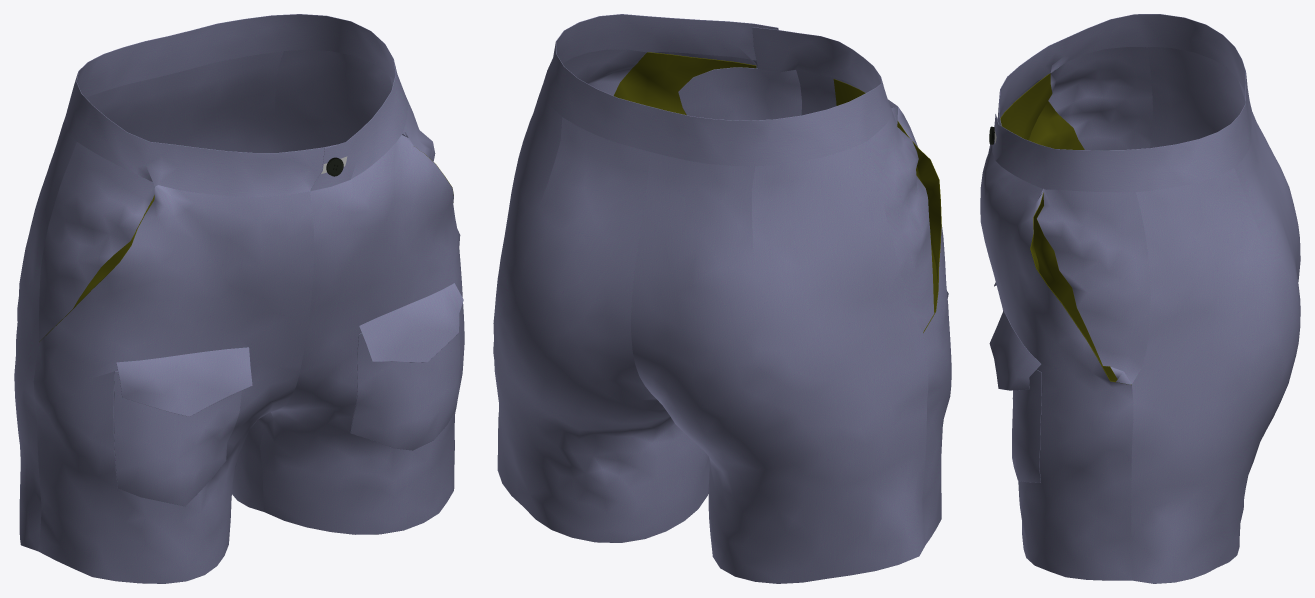
The picture shows the model from 3 angles, left to right: view 1: azimuth 30°, elevation 25°; view 2: azimuth 150°, elevation 25°; view 3: azimuth 270°, elevation 25°; orthographic projection. The views are drawn at different scales.
Visible parts, largest first — view 1: Pattern2D_3956468, Pattern2D_3956717, OPC00WAB4, Pattern2D_3961243, Pattern2D_3961019, Pattern2D_766543, Pattern2D_5340182, Pattern2D_5340181, Pattern2D_5340184, Pattern2D_5340183, Pattern2D_766545, Pattern2D_5340179; view 2: Pattern2D_3961019, Pattern2D_3961243, OPC00WAB4, Pattern2D_766543, Pattern2D_3956468, FLF_1, Pattern2D_766546, Pattern2D_766545, Pattern2D_5340180, Pattern2D_5340179; view 3: Pattern2D_3961243, Pattern2D_3956717, OPC00WAB4, Pattern2D_766545, Pattern2D_3961019, Pattern2D_766543, Pattern2D_5340179, Pattern2D_5340181, Pattern2D_5340183, Pattern2D_766546.
Part boxes in pixels (x1,y1,x2,y2): Pattern2D_3956468: [33, 185, 313, 583]; Pattern2D_3956717: [260, 132, 464, 534]; OPC00WAB4: [64, 14, 407, 197]; Pattern2D_3961243: [161, 49, 392, 511]; Pattern2D_3961019: [14, 72, 179, 551]; Pattern2D_766543: [39, 142, 154, 341]; Pattern2D_5340182: [114, 371, 241, 506]; Pattern2D_5340181: [351, 333, 459, 450]; Pattern2D_5340184: [116, 347, 252, 416]; Pattern2D_5340183: [359, 283, 463, 362]; Pattern2D_766545: [389, 76, 435, 161]; Pattern2D_5340179: [73, 195, 154, 308]; Pattern2D_3961019: [631, 141, 928, 583]; Pattern2D_3961243: [493, 84, 709, 542]; OPC00WAB4: [543, 14, 897, 166]; Pattern2D_766543: [868, 106, 934, 332]; Pattern2D_3956468: [796, 69, 951, 544]; FLF_1: [678, 67, 801, 120]; Pattern2D_766546: [613, 52, 756, 115]; Pattern2D_766545: [562, 49, 646, 95]; Pattern2D_5340180: [834, 79, 941, 332]; Pattern2D_5340179: [833, 79, 937, 312]; Pattern2D_3961243: [1131, 129, 1300, 583]; Pattern2D_3956717: [980, 144, 1133, 580]; OPC00WAB4: [992, 14, 1251, 192]; Pattern2D_766545: [1037, 189, 1150, 384]; Pattern2D_3961019: [1147, 47, 1300, 281]; Pattern2D_766543: [1048, 47, 1152, 150]; Pattern2D_5340179: [1000, 73, 1084, 149]; Pattern2D_5340181: [1012, 369, 1041, 482]; Pattern2D_5340183: [989, 311, 1041, 390]; Pattern2D_766546: [1033, 194, 1117, 381].
Size of the model in its own units: 38.18 by 39.83 by 26.97.
